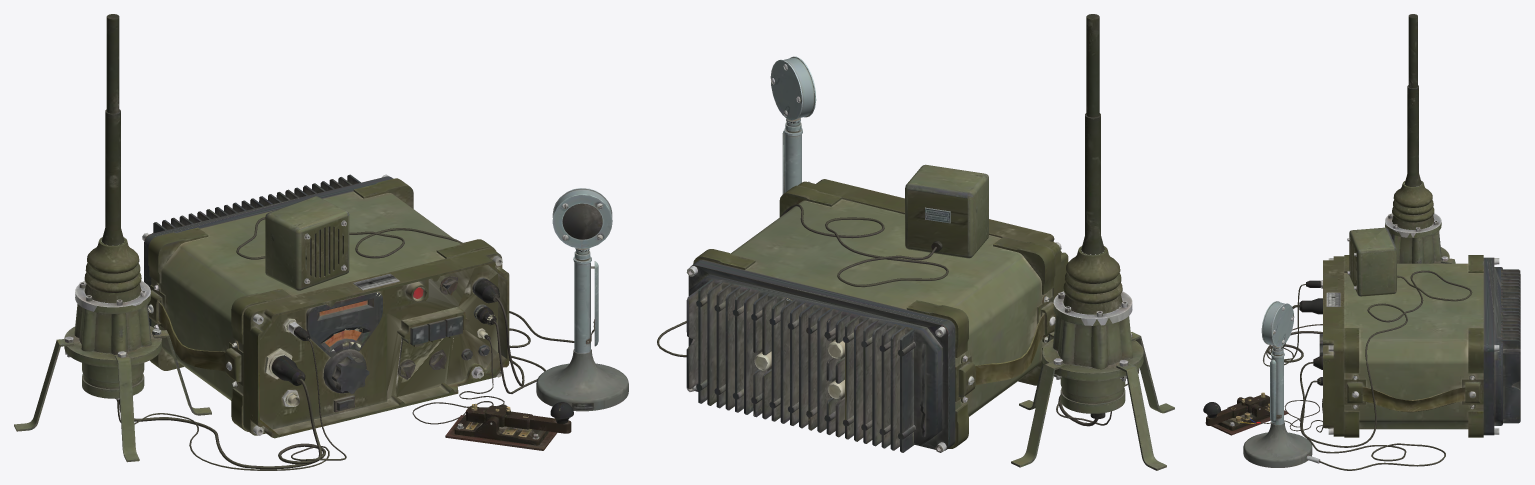
The model's file is vintage-radio-transceiver.glb.
3 views of the same model, side by side, from view 1: azimuth 30°, elevation 25°; view 2: azimuth 150°, elevation 25°; view 3: azimuth 270°, elevation 25° (orthographic). The views are drawn at different scales.
Parts seen in each view (by area): view 1: vintage_radio_transceiver; view 2: vintage_radio_transceiver; view 3: vintage_radio_transceiver.
Part boxes in pixels (x1=…): vintage_radio_transceiver: x1=14, y1=14, x2=628, y2=470; vintage_radio_transceiver: x1=657, y1=14, x2=1174, y2=470; vintage_radio_transceiver: x1=1203, y1=14, x2=1520, y2=470.
Size of the model in its own units: 0.5739 by 0.4344 by 0.4131.
Materials: 2 (2 with a texture image).
